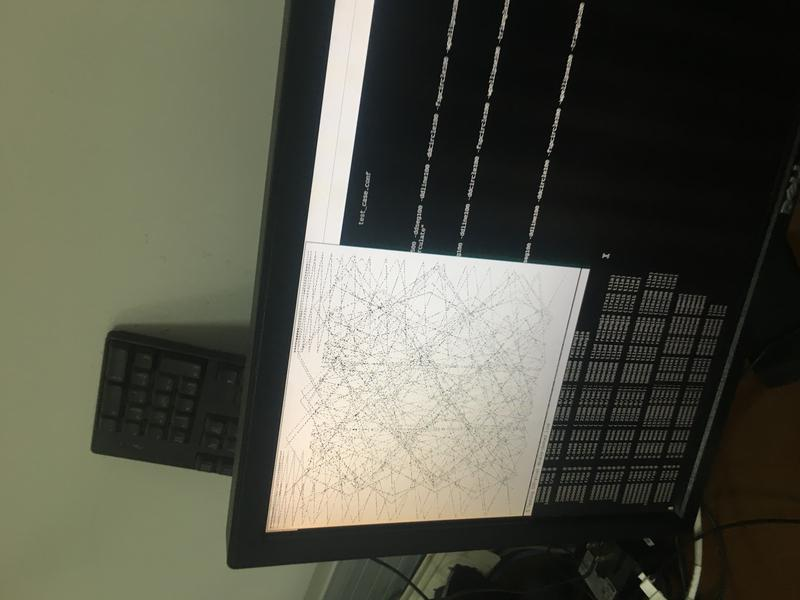xrandr_pass: (264, 229, 595, 532)
